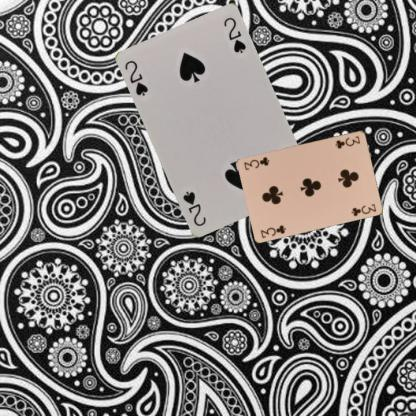2s: (122, 58, 150, 98)
3c: (333, 133, 361, 150), (258, 222, 287, 238)
